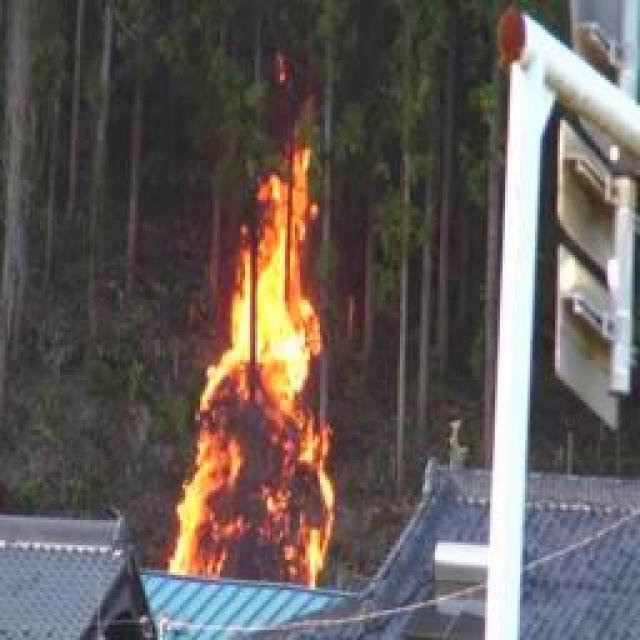Fire: (174, 170, 330, 584)
